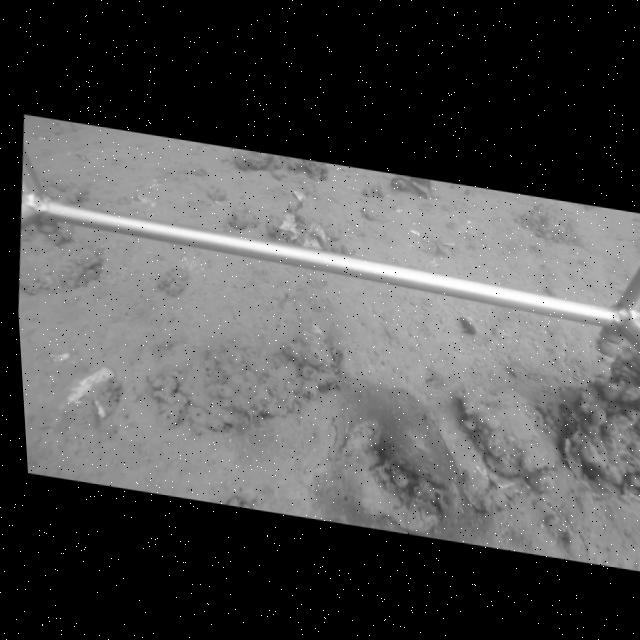Oyster-Closed: (459, 315, 478, 334)
Oyster-Indeterminate: (462, 381, 562, 475), (563, 438, 586, 482)
